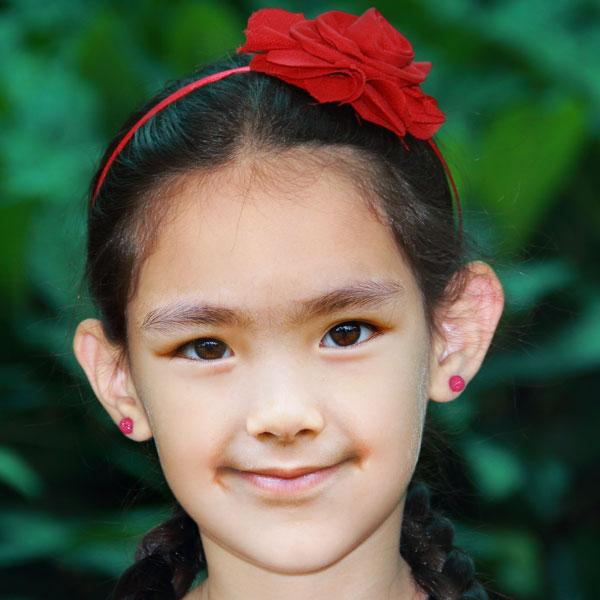Eyes: (303, 306, 396, 361), (153, 326, 246, 377)
